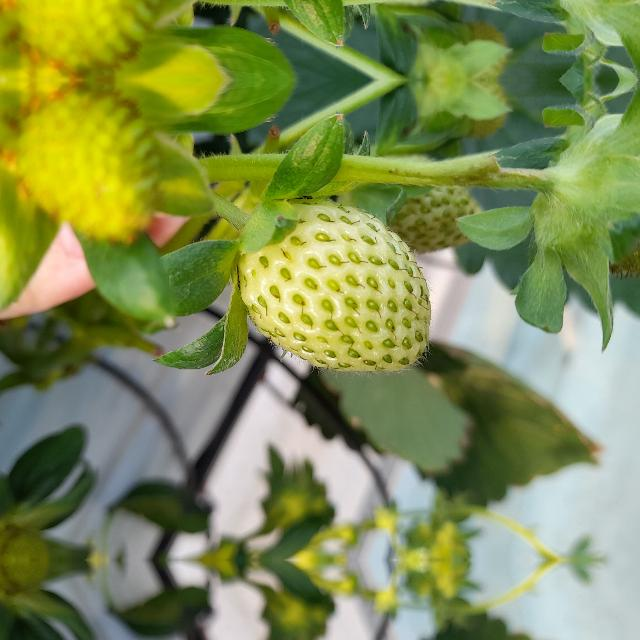Health_25: (238, 196, 437, 380)
